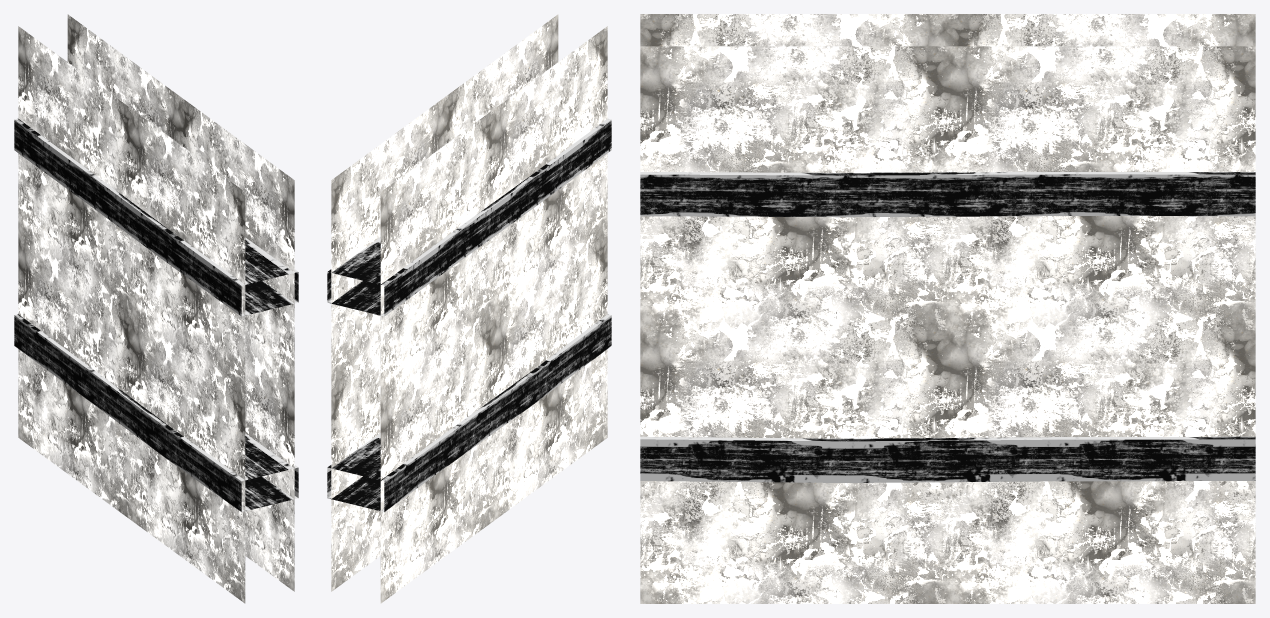
File: SM_wall_A_4x4_01_03.fbx
The picture shows the model from 3 angles, left to right: view 1: azimuth 30°, elevation 25°; view 2: azimuth 150°, elevation 25°; view 3: azimuth 270°, elevation 25°; orthographic projection. The views are drawn at different scales.
Visible parts, largest first — view 1: SM_wall_A_4x4_01_03_LOD0; view 2: SM_wall_A_4x4_01_03_LOD0; view 3: SM_wall_A_4x4_01_03_LOD0.
Part boxes in pixels (<box>): SM_wall_A_4x4_01_03_LOD0: <box>14,14,298,603</box>; SM_wall_A_4x4_01_03_LOD0: <box>327,14,611,603</box>; SM_wall_A_4x4_01_03_LOD0: <box>640,14,1255,603</box>.
Size of the model in its own units: 58 by 400 by 400.
3 materials, 3 textured.
